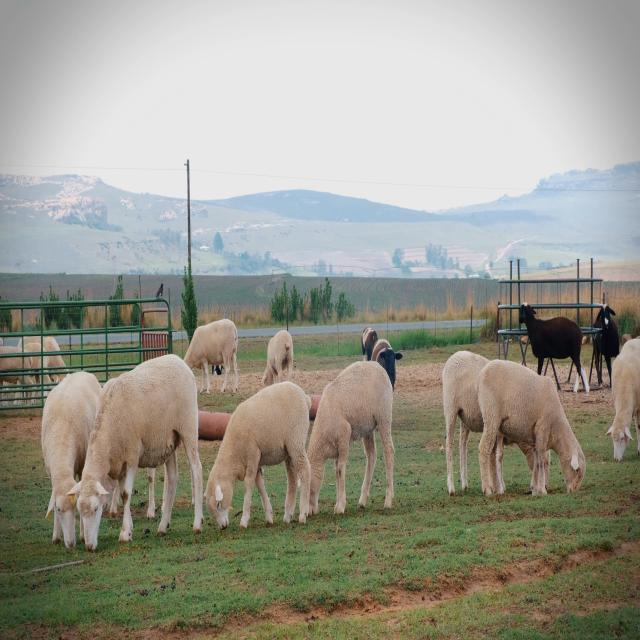sheep: (79, 359, 204, 559), (474, 339, 589, 512), (206, 386, 317, 537), (31, 360, 80, 560), (602, 332, 640, 466)
